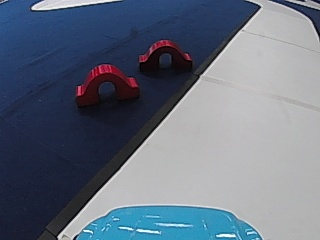bridge: (72, 58, 142, 107), (138, 36, 191, 73)
